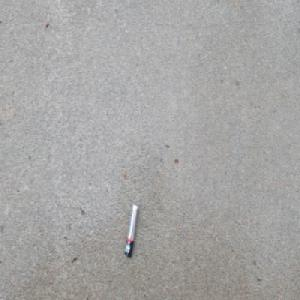Battery: (124, 202, 138, 259)
